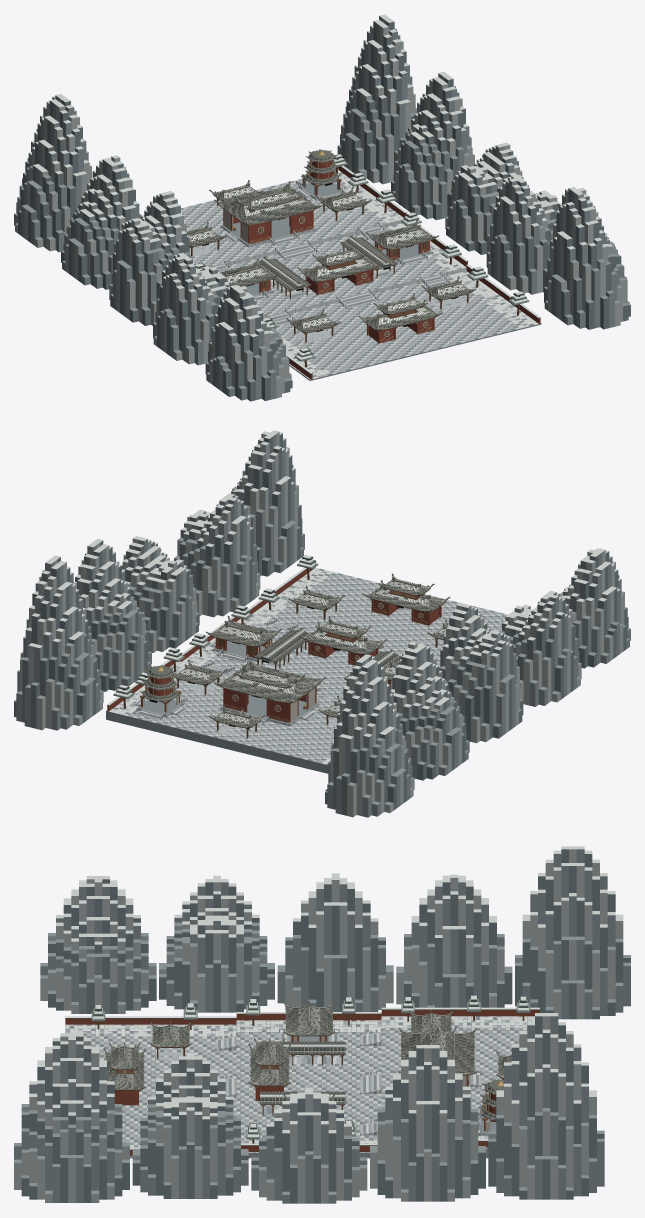
Rendered from ancient-compound.glb.
3 views of the same model, one above another, from view 1: azimuth 30°, elevation 25°; view 2: azimuth 150°, elevation 25°; view 3: azimuth 270°, elevation 25° (orthographic). The views are drawn at different scales.
Visible parts, largest first — view 1: landscape-distant, landscape-ground, main-hall-body, landscape-body, landscape-nature, main-hall-roof, east-hall-roof, terrace-gate-roof, gate-roof, west-hall-roof, west-gallery-roof, east-pagoda-roof-upper (+11 smaller); view 2: landscape-distant, landscape-ground, main-hall-body, main-hall-roof, landscape-nature, landscape-body, east-hall-roof, gate-roof, terrace-gate-roof, east-gallery-roof, east-pagoda-body, east-hall-body (+8 smaller); view 3: landscape-distant, landscape-ground, landscape-body, landscape-nature, west-hall-roof, main-hall-roof, terrace-gate-roof, gate-roof, west-front-pavilion-roof, west-gallery-roof, terrace-gate-roof-upper, gate-roof-upper (+5 smaller).
Boxes of the visible parts, left/top/right/bottom form: landscape-distant: left=14, top=14, right=630, bottom=401; landscape-ground: left=181, top=170, right=541, bottom=380; main-hall-body: left=220, top=209, right=316, bottom=247; landscape-body: left=205, top=165, right=540, bottom=379; landscape-nature: left=195, top=154, right=529, bottom=367; main-hall-roof: left=214, top=181, right=322, bottom=224; east-hall-roof: left=365, top=220, right=438, bottom=250; terrace-gate-roof: left=297, top=251, right=381, bottom=282; gate-roof: left=358, top=299, right=442, bottom=330; west-hall-roof: left=220, top=258, right=279, bottom=286; west-gallery-roof: left=258, top=256, right=310, bottom=290; east-pagoda-roof-upper: left=304, top=149, right=339, bottom=180; landscape-distant: left=14, top=430, right=630, bottom=817; landscape-ground: left=106, top=567, right=507, bottom=773; main-hall-body: left=220, top=670, right=319, bottom=726; main-hall-roof: left=214, top=658, right=326, bottom=703; landscape-nature: left=113, top=555, right=318, bottom=708; landscape-body: left=107, top=561, right=437, bottom=711; east-hall-roof: left=206, top=616, right=281, bottom=647; gate-roof: left=363, top=580, right=450, bottom=612; terrace-gate-roof: left=299, top=622, right=386, bottom=654; east-gallery-roof: left=254, top=627, right=310, bottom=662; east-pagoda-body: left=133, top=691, right=187, bottom=720; east-hall-body: left=209, top=630, right=272, bottom=662; landscape-distant: left=14, top=846, right=630, bottom=1203; landscape-ground: left=65, top=1016, right=534, bottom=1158; landscape-body: left=65, top=1007, right=539, bottom=1156; landscape-nature: left=91, top=995, right=530, bottom=1143; west-hall-roof: left=283, top=1001, right=334, bottom=1036; main-hall-roof: left=399, top=1026, right=476, bottom=1075; terrace-gate-roof: left=248, top=1044, right=290, bottom=1086; gate-roof: left=103, top=1048, right=145, bottom=1090; west-front-pavilion-roof: left=150, top=1021, right=191, bottom=1047; west-gallery-roof: left=260, top=1041, right=346, bottom=1054; terrace-gate-roof-upper: left=254, top=1038, right=285, bottom=1069; gate-roof-upper: left=109, top=1042, right=140, bottom=1073.
Size of the model in its own units: 163 by 57.5 by 187.
60 materials, 26 textured.
